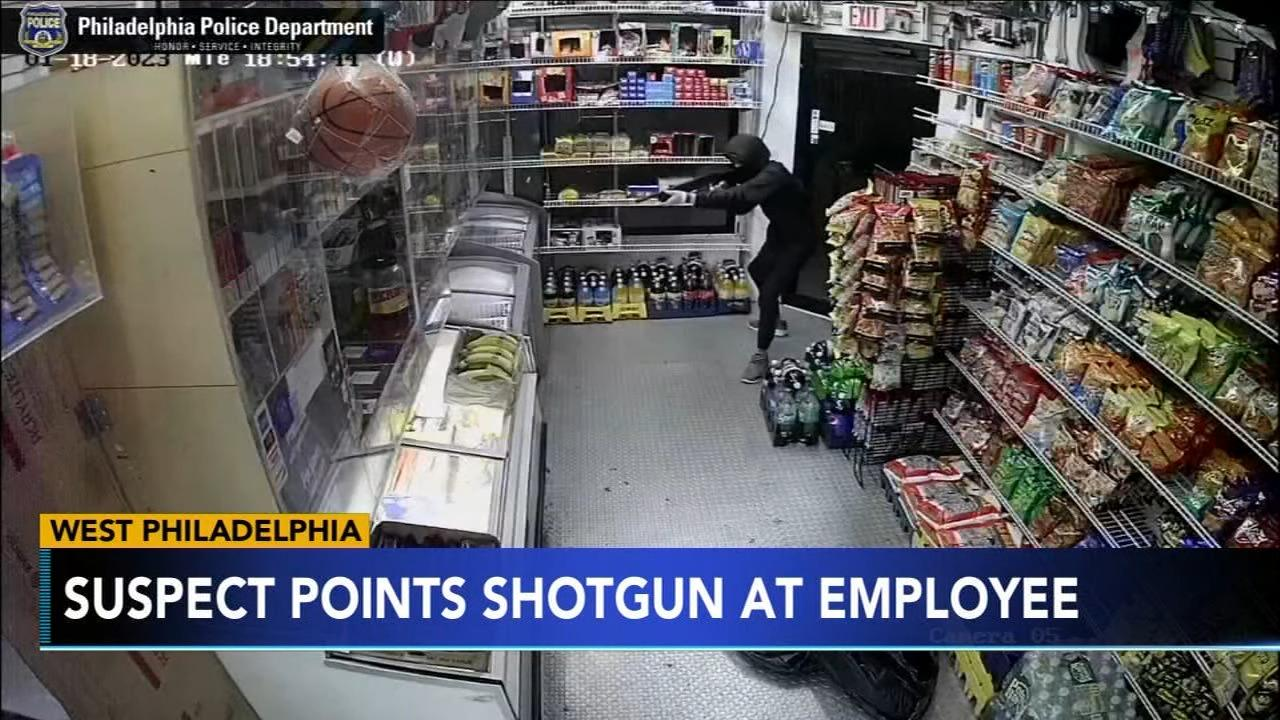shotgun: (638, 164, 728, 214)
